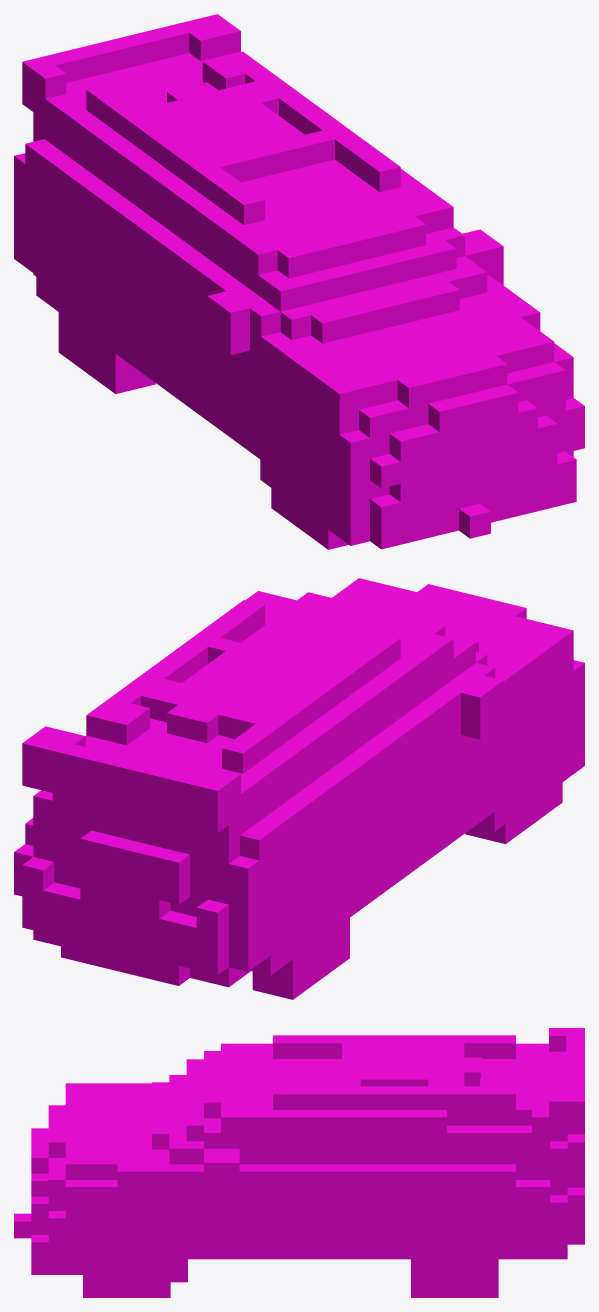
3 views of the same model, one above another, from view 1: azimuth 30°, elevation 25°; view 2: azimuth 150°, elevation 25°; view 3: azimuth 270°, elevation 25° (orthographic). The views are drawn at different scales.
Visible parts, largest first — view 1: col_wall_03, col_block_01, col_block_02, col_roof_34, col_roof_56, col_block_06, col_block_61, col_block_20, col_column_06, col_column_07, col_roof_64, col_block_04 (+76 smaller); view 2: col_wall_03, col_block_01, col_block_02, col_roof_56, col_wall_09, col_roof_34, col_wall_35, col_column_06, col_roof_60, col_block_44, col_block_11, col_roof_01 (+49 smaller); view 3: col_wall_18, col_block_09, col_block_03, col_wall_37, col_wall_17, col_wall_41, col_column_15, col_block_61, col_column_01, col_roof_73, col_roof_56, col_roof_05 (+75 smaller).
Boxes of the visible parts, x1,y1,x2,y2 form: col_wall_03: (114,204,256,443); col_block_01: (58,163,155,393); col_block_02: (271,335,368,549); col_roof_34: (78,118,220,253); col_roof_56: (22,14,229,111); col_block_06: (400,469,537,544); col_block_61: (354,318,501,371); col_block_20: (448,389,499,489); col_column_06: (36,147,77,311); col_column_07: (238,295,280,458); col_roof_64: (286,217,385,273); col_block_04: (327,467,389,545); col_wall_03: (331,679,472,917); col_block_01: (252,769,349,999); col_block_02: (465,629,562,844); col_roof_56: (22,734,229,832); col_wall_09: (22,882,228,975); col_roof_34: (255,675,397,809); col_wall_35: (80,830,170,918); col_column_06: (251,811,293,975); col_roof_60: (97,718,234,775); col_block_44: (227,852,271,930); col_block_11: (61,935,189,985); col_roof_01: (208,783,251,904); col_wall_18: (221,1164,412,1250); col_block_09: (100,1180,187,1282); col_block_03: (411,1202,498,1297); col_wall_37: (307,1110,377,1164); col_wall_17: (497,1180,550,1250); col_wall_41: (411,1164,498,1203); col_column_15: (186,1164,222,1250); col_block_61: (83,1105,136,1149); col_column_01: (83,1180,101,1297); col_roof_73: (221,1110,308,1134); col_roof_56: (566,1028,584,1134); col_roof_05: (411,1110,446,1164).
Size of what is drawn, in the model's own units: 99.81 by 85.63 by 235.
